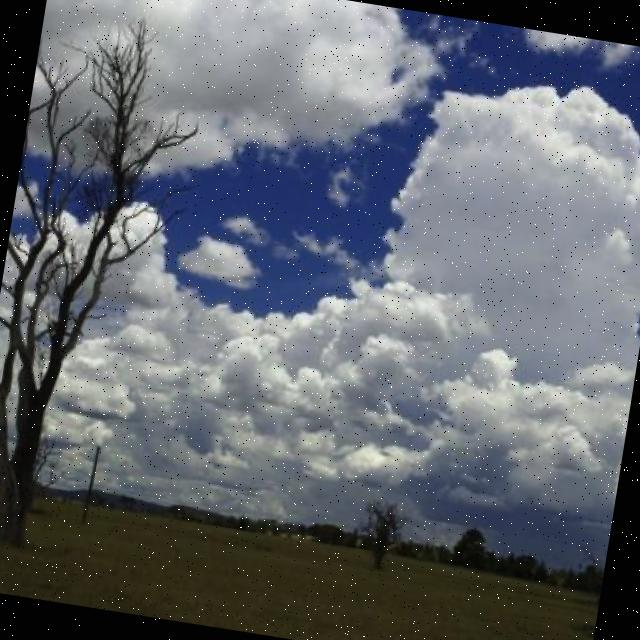Cu: (177, 1, 640, 474)
